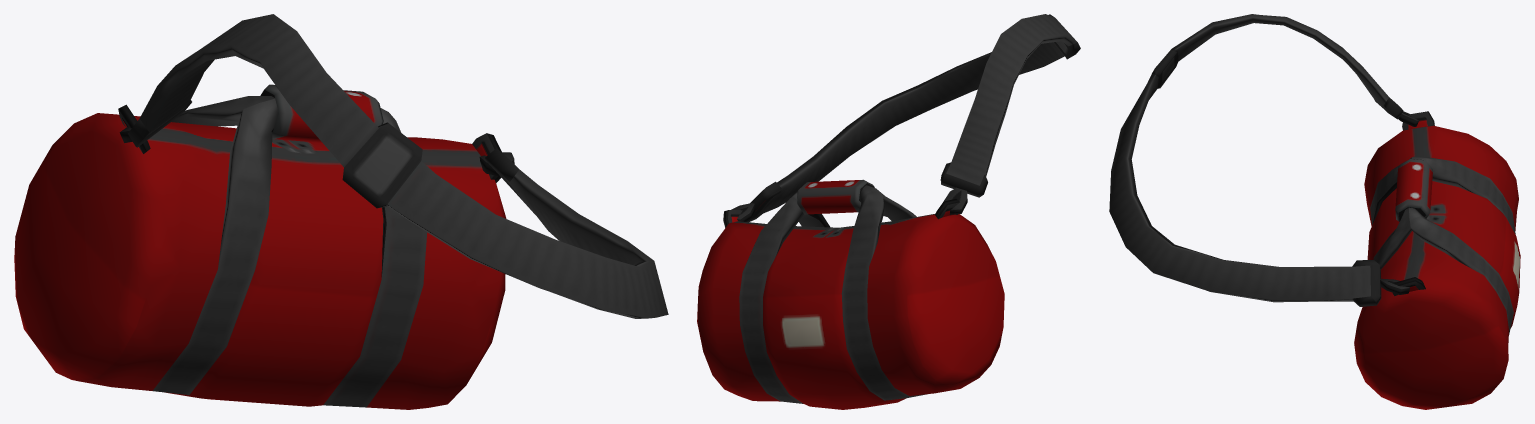
Rendered from BagShoulderDrum0.glb.
3 renders of one model, left to right at view 1: azimuth 30°, elevation 25°; view 2: azimuth 150°, elevation 25°; view 3: azimuth 270°, elevation 25°, orthographic. The views are drawn at different scales.
Parts seen in each view (by area): view 1: Belt__mBag; view 2: Belt__mBag; view 3: Belt__mBag.
Part boxes in pixels (bbox=[...]): Belt__mBag: bbox=[14, 14, 668, 409]; Belt__mBag: bbox=[697, 14, 1080, 409]; Belt__mBag: bbox=[1109, 14, 1520, 409].
Size of the model in its own units: 3.43 by 4.06 by 4.69.
1 material, 1 textured.
